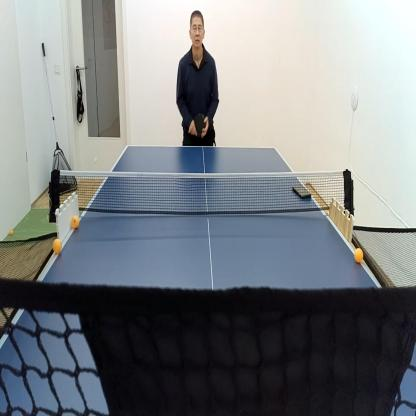Ball: (354, 247, 363, 262), (52, 238, 61, 253), (72, 214, 80, 228), (10, 230, 14, 235)
